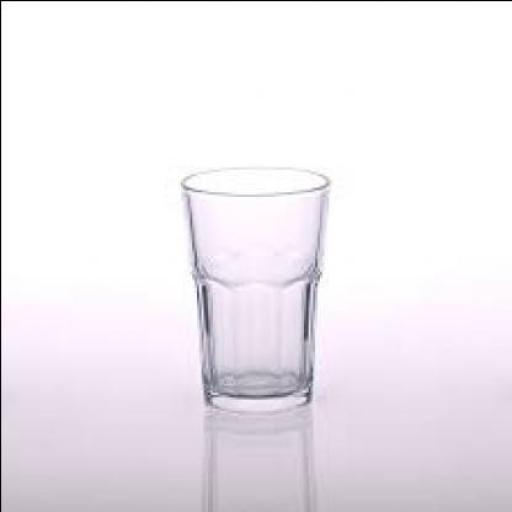glass: (180, 164, 327, 410)
